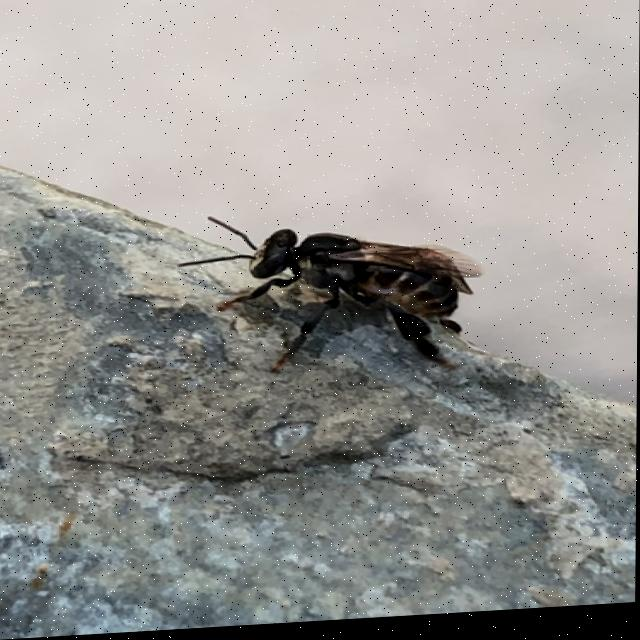Meliponula: (157, 187, 509, 401)
